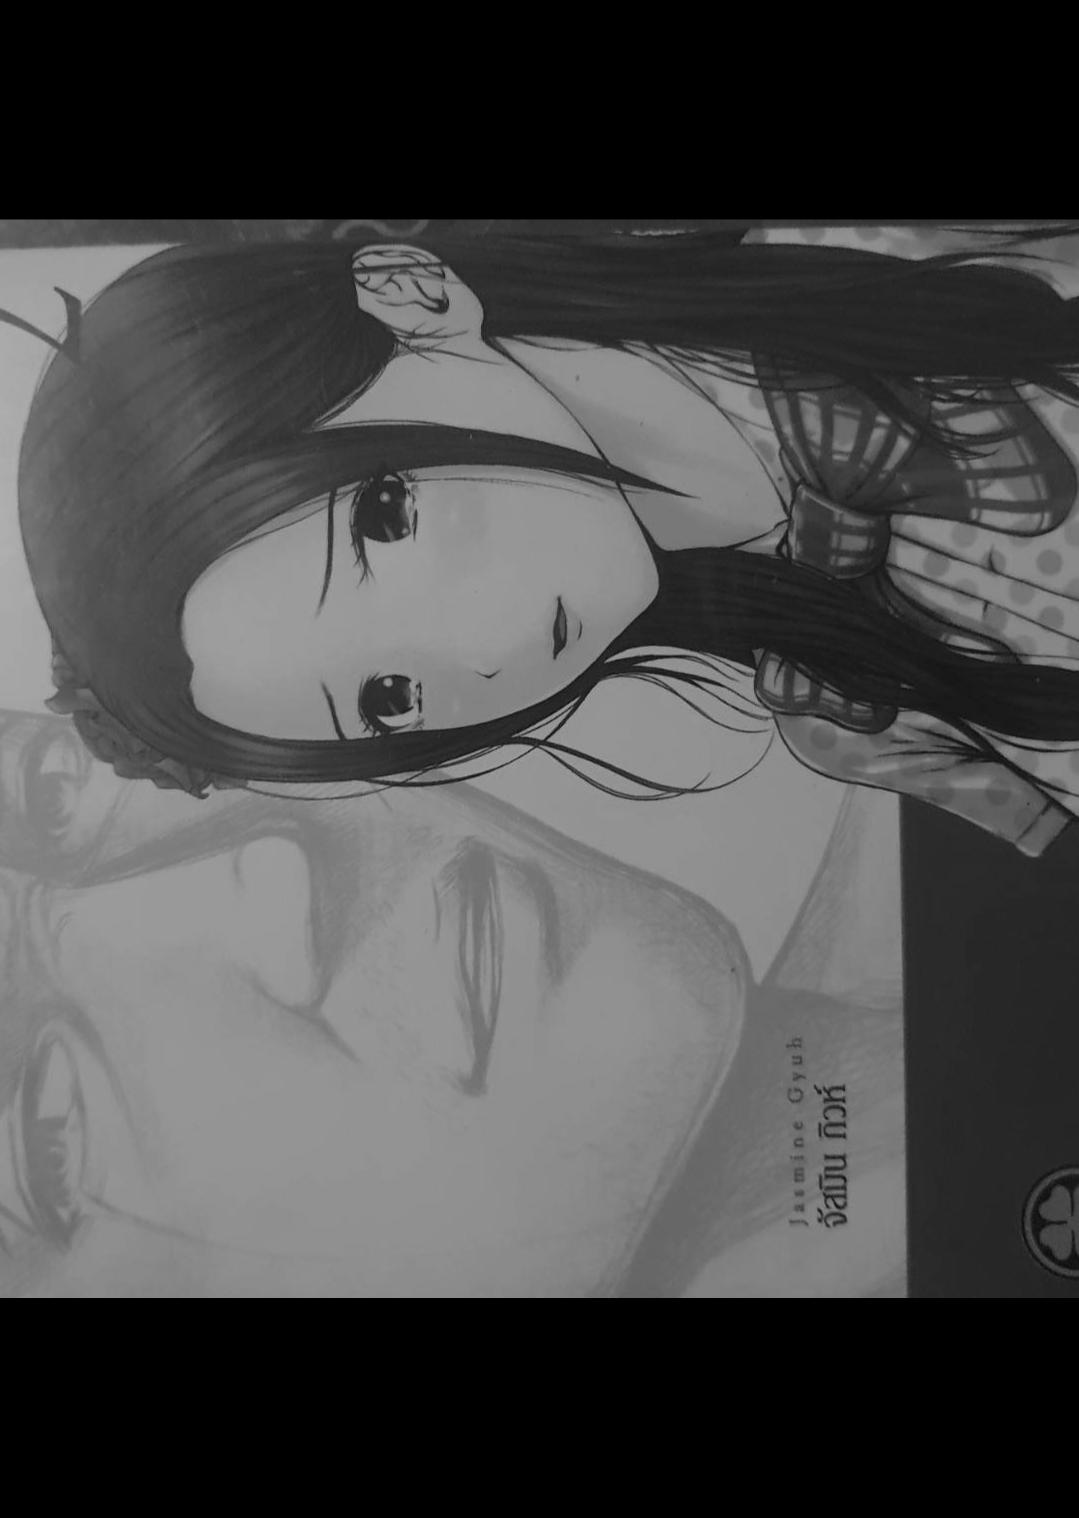Zenshu: (0, 243, 1079, 1277)
